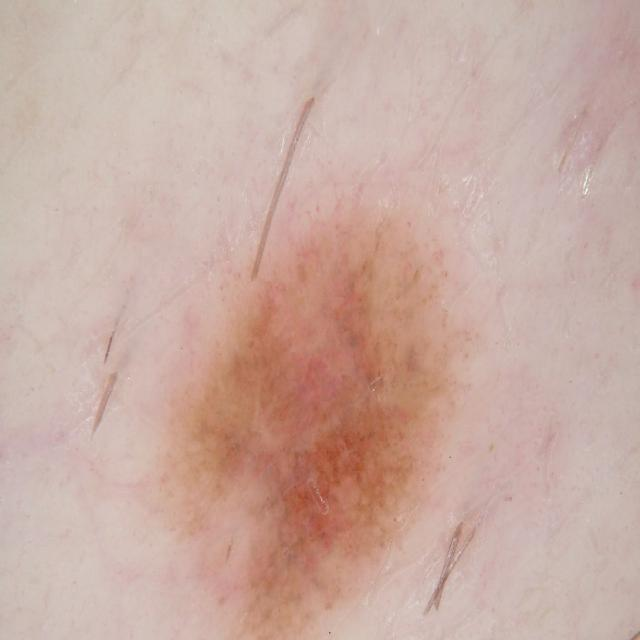Melanoma: (144, 174, 470, 640)
